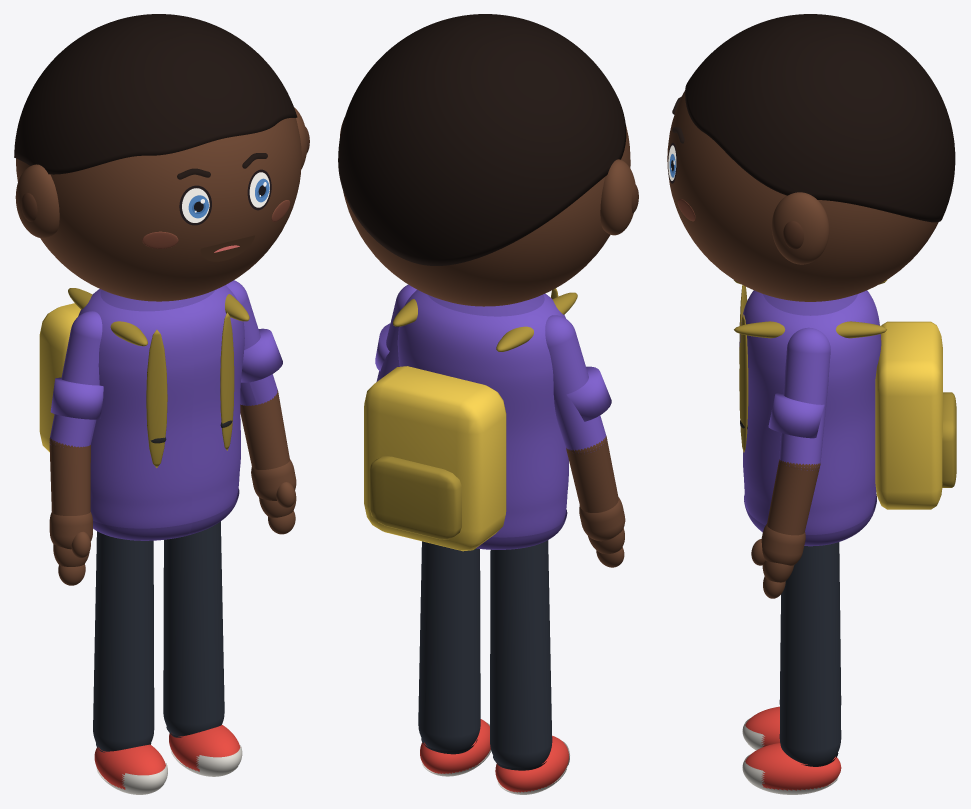
The model's file is leerling_e.glb.
The picture shows the model from 3 angles, left to right: view 1: azimuth 30°, elevation 25°; view 2: azimuth 150°, elevation 25°; view 3: azimuth 270°, elevation 25°; orthographic projection.
Visible parts, largest first — view 1: leerling_e_haar, leerling_e_hoofd, leerling_e_romp, leerling_e_been_R, leerling_e_been_L, leerling_e_bovenarm_R, leerling_e_rugzak, leerling_e_onderarm_R, leerling_e_onderarm_L, leerling_e_rugzak_band_R, leerling_e_oor_R, leerling_e_schoen_R (+13 smaller); view 2: leerling_e_haar, leerling_e_romp, leerling_e_rugzak, leerling_e_been_R, leerling_e_been_L, leerling_e_hoofd, leerling_e_rugzak_vak, leerling_e_bovenarm_R, leerling_e_onderarm_R, leerling_e_oor_R, leerling_e_schoen_R, leerling_e_schoen_L (+6 smaller); view 3: leerling_e_haar, leerling_e_hoofd, leerling_e_romp, leerling_e_been_L, leerling_e_rugzak, leerling_e_bovenarm_L, leerling_e_oor_L, leerling_e_onderarm_L, leerling_e_schoen_L, leerling_e_mouwzoom_L, leerling_e_rugzak_vak, leerling_e_rugzak_schouder_L (+6 smaller).
Part boxes in pixels (x1,y1,x2,y2): leerling_e_haar: (14, 14, 297, 174); leerling_e_hoofd: (16, 118, 301, 301); leerling_e_romp: (78, 285, 244, 528); leerling_e_been_R: (93, 531, 154, 751); leerling_e_been_L: (163, 521, 224, 736); leerling_e_bovenarm_R: (50, 311, 102, 447); leerling_e_rugzak: (39, 303, 80, 452); leerling_e_onderarm_R: (49, 440, 90, 515); leerling_e_onderarm_L: (240, 393, 289, 469); leerling_e_rugzak_band_R: (146, 329, 167, 467); leerling_e_oor_R: (15, 164, 59, 238); leerling_e_schoen_R: (94, 744, 165, 789); leerling_e_haar: (338, 14, 626, 265); leerling_e_romp: (397, 290, 568, 537); leerling_e_rugzak: (364, 366, 506, 551); leerling_e_been_R: (490, 540, 552, 768); leerling_e_been_L: (418, 541, 480, 750); leerling_e_hoofd: (343, 124, 630, 306); leerling_e_rugzak_vak: (369, 456, 461, 539); leerling_e_bovenarm_R: (545, 315, 606, 453); leerling_e_onderarm_R: (566, 439, 618, 512); leerling_e_oor_R: (600, 159, 635, 235); leerling_e_schoen_R: (495, 735, 568, 792); leerling_e_schoen_L: (420, 719, 490, 773); leerling_e_haar: (685, 14, 955, 222); leerling_e_hoofd: (667, 91, 938, 301); leerling_e_romp: (739, 290, 881, 534); leerling_e_been_L: (779, 542, 841, 764); leerling_e_rugzak: (875, 321, 942, 509); leerling_e_bovenarm_L: (779, 327, 830, 470); leerling_e_oor_L: (771, 192, 829, 264); leerling_e_onderarm_L: (767, 460, 819, 535); leerling_e_schoen_L: (745, 743, 841, 790); leerling_e_mouwzoom_L: (768, 393, 824, 438); leerling_e_rugzak_vak: (942, 392, 956, 487); leerling_e_rugzak_schouder_L: (734, 321, 886, 338).
Bounding box in the file's own units: 0.6542 × 1.64 × 0.5759.
